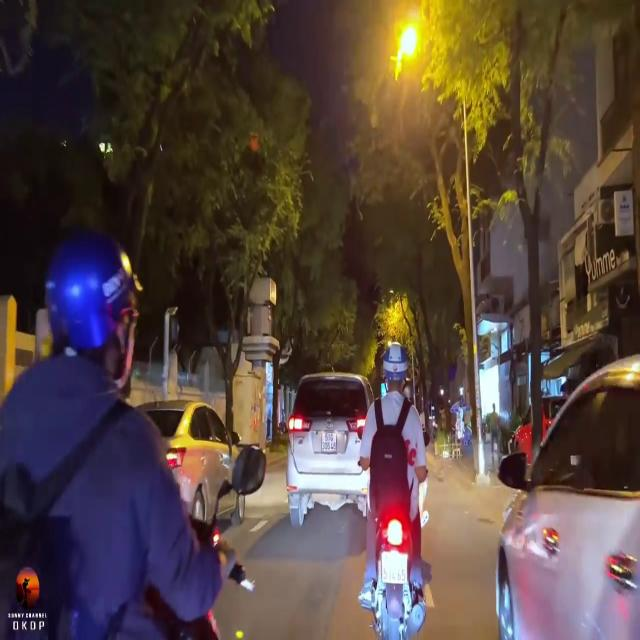bien_trang: (376, 549, 415, 590), (318, 430, 338, 456)
